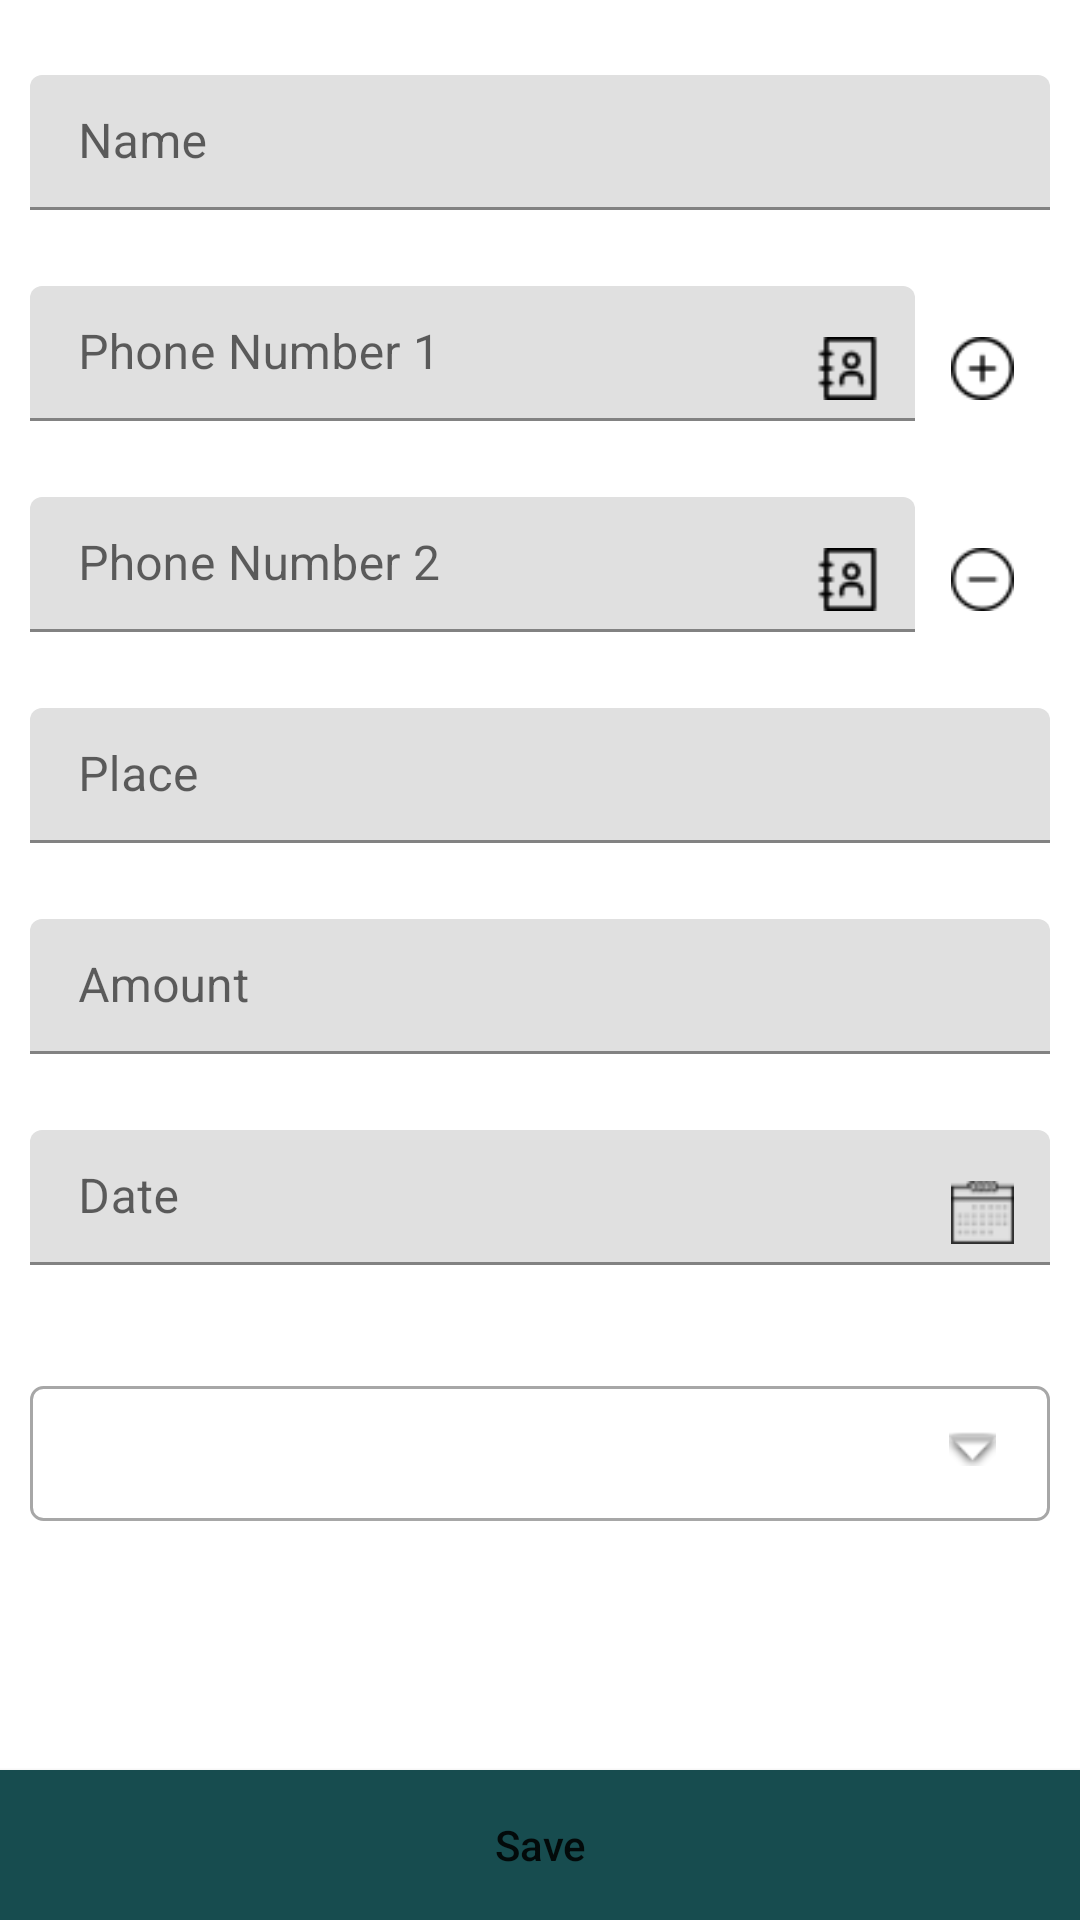

Screen size 1080 × 1920. Icon name, then its center in pixels as [x,y]:
add circular: [982,368]
minus: [982,579]
